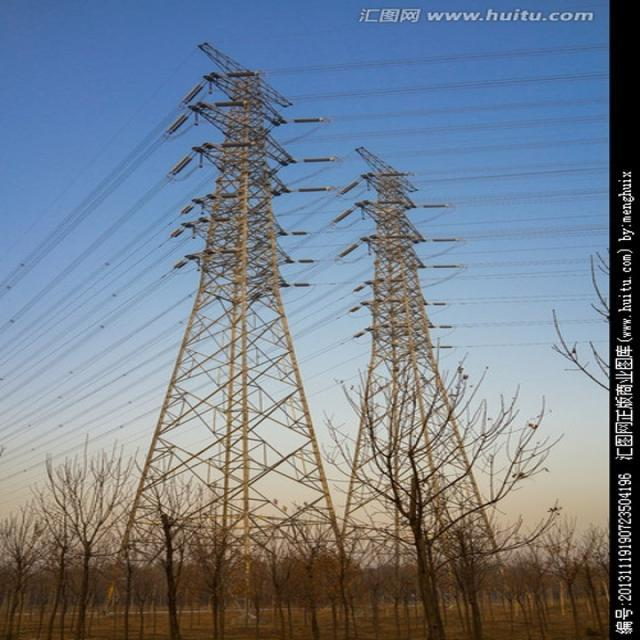non-critical vegetation: (140, 45, 359, 596), (340, 146, 500, 593)
